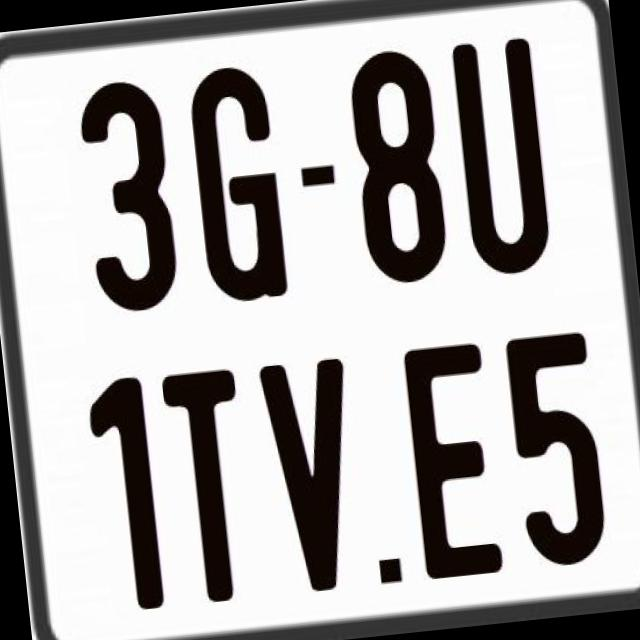1: (85, 376, 166, 618)
3: (72, 74, 180, 316)
5: (500, 328, 613, 576)
8: (344, 45, 453, 292)
E: (401, 340, 512, 588)
G: (182, 62, 290, 312)
T: (158, 367, 259, 613)
U: (448, 32, 554, 272)
V: (256, 354, 366, 596)
